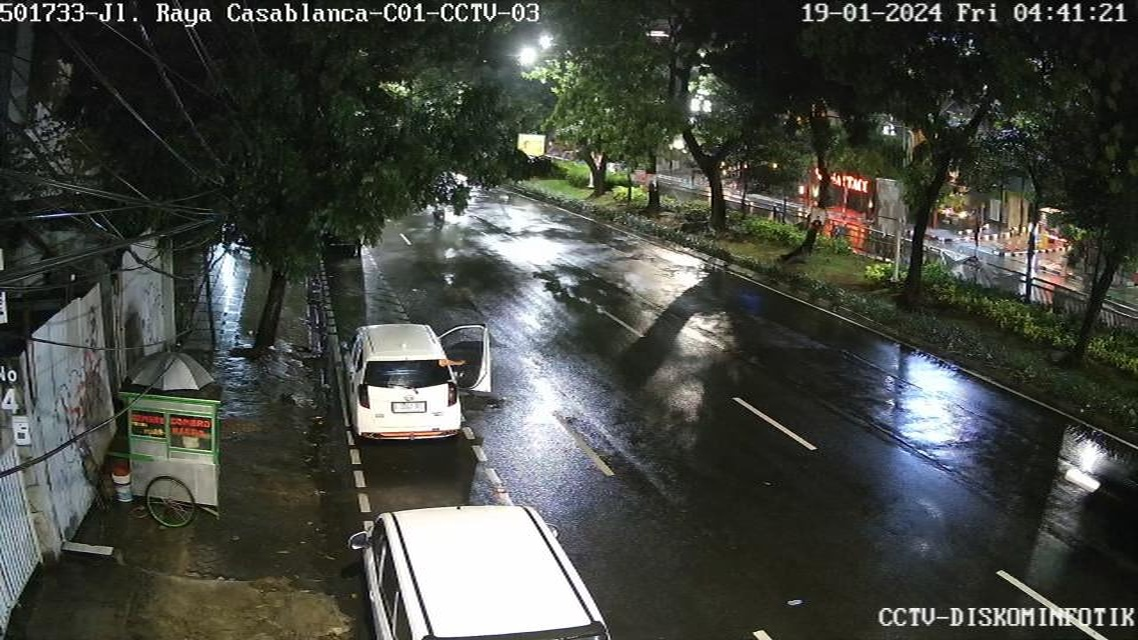Gerobak: (108, 375, 226, 528)
